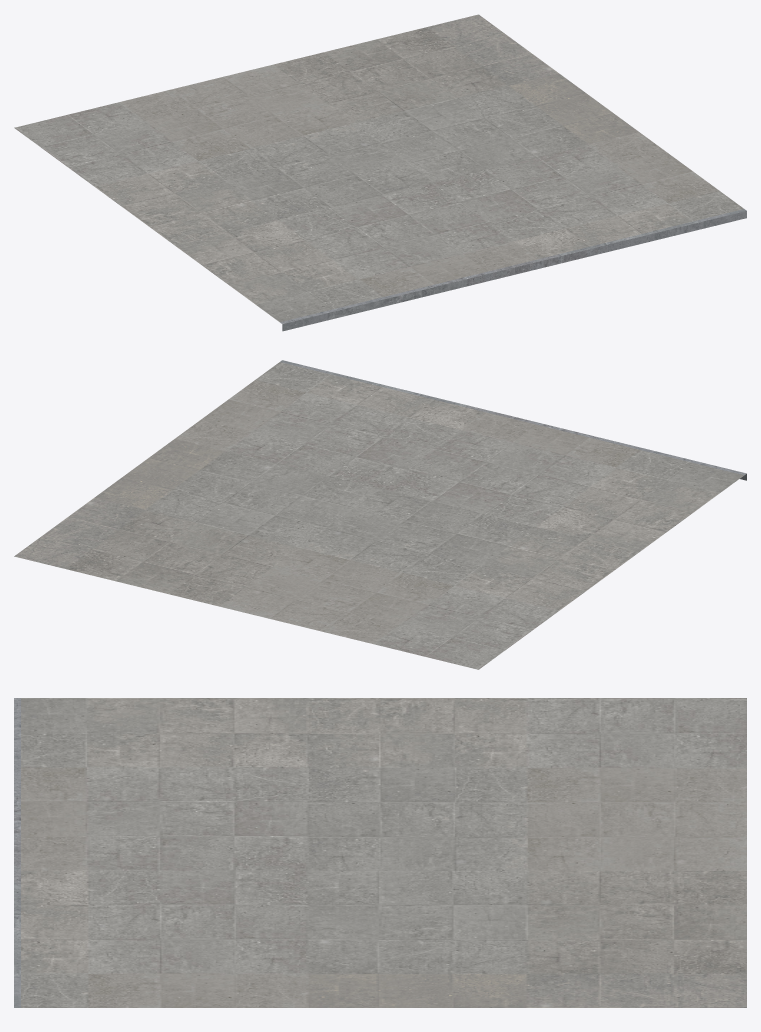
Rendered from sidewalk_10x10_side.glb.
3 renders of one model, top to bottom at view 1: azimuth 30°, elevation 25°; view 2: azimuth 150°, elevation 25°; view 3: azimuth 270°, elevation 25°, orthographic. The views are drawn at different scales.
Parts seen in each view (by area): view 1: Center Sidewalk; view 2: Center Sidewalk; view 3: Center Sidewalk.
Part boxes in pixels (<box>): Center Sidewalk: <box>14,14,746,331</box>; Center Sidewalk: <box>14,360,746,669</box>; Center Sidewalk: <box>14,698,746,1007</box>.
Bounding box in the file's own units: 10 × 0.15 × 10.
2 materials, 2 textured.
